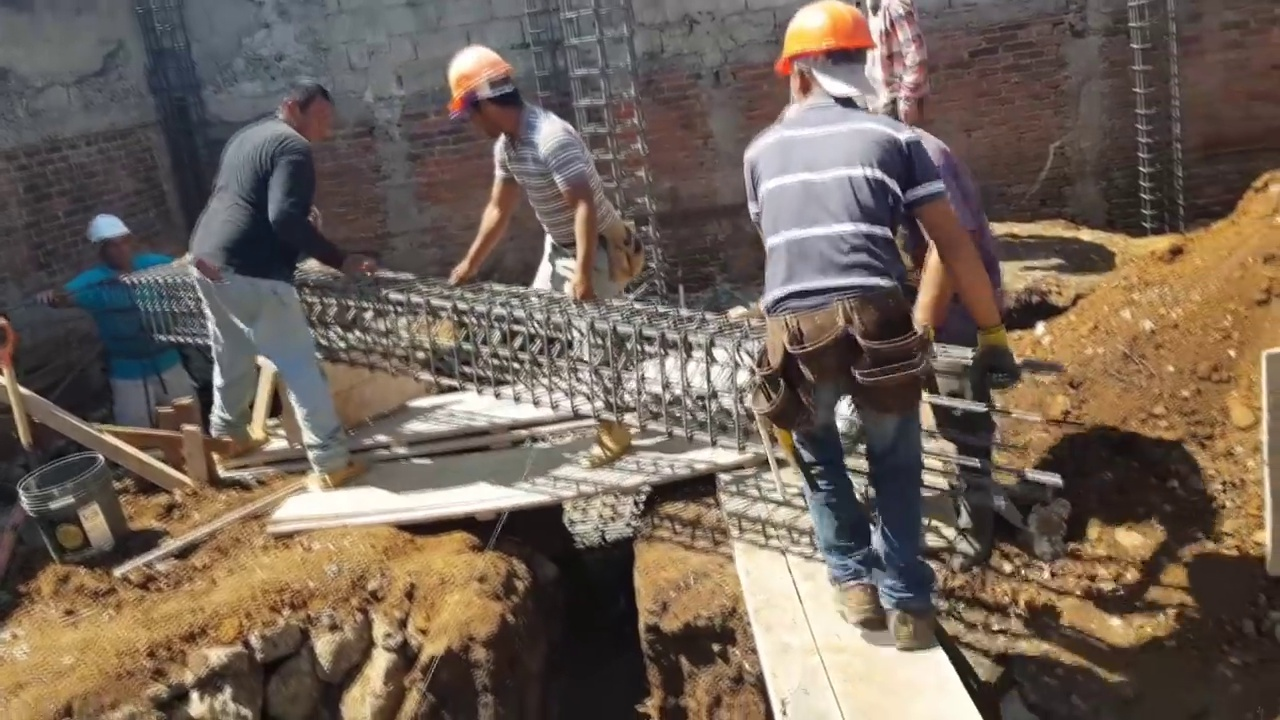helmet: (776, 3, 877, 77), (446, 47, 517, 114), (81, 215, 135, 248)
helmet-off: (267, 79, 338, 146)
helmet-on: (787, 4, 885, 112), (447, 48, 531, 142), (81, 215, 135, 271)
person: (737, 11, 1012, 651), (193, 74, 365, 502), (896, 123, 1018, 563), (444, 50, 643, 315), (36, 212, 189, 419), (874, 0, 928, 136)
